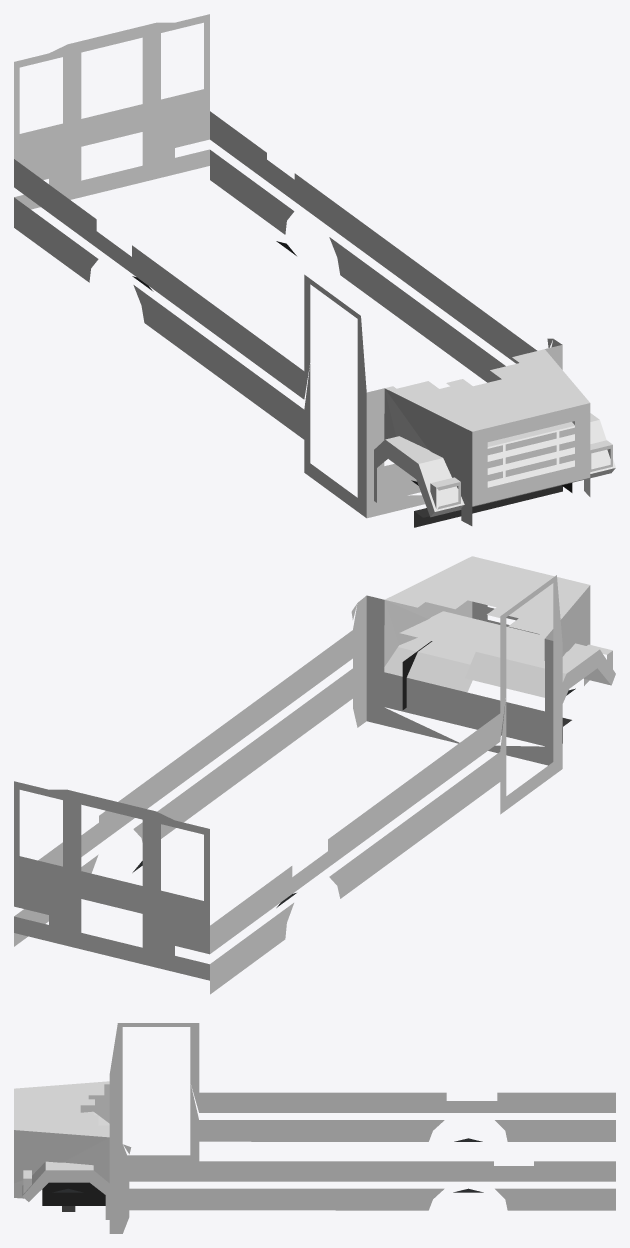
The model's file is MagicBusGreen.fbx.
3 views of the same model, one above another, from view 1: azimuth 30°, elevation 25°; view 2: azimuth 150°, elevation 25°; view 3: azimuth 270°, elevation 25° (orthographic). The views are drawn at different scales.
Visible parts, largest first — view 1: SA_Veh_Schoolbus; view 2: SA_Veh_Schoolbus; view 3: SA_Veh_Schoolbus.
Part boxes in pixels (bbox=[...]): SA_Veh_Schoolbus: bbox=[14, 14, 615, 527]; SA_Veh_Schoolbus: bbox=[14, 556, 615, 994]; SA_Veh_Schoolbus: bbox=[14, 1023, 615, 1233].
Size of the model in its own units: 3.04 by 3.01 by 11.27.
1 material, 1 textured.
